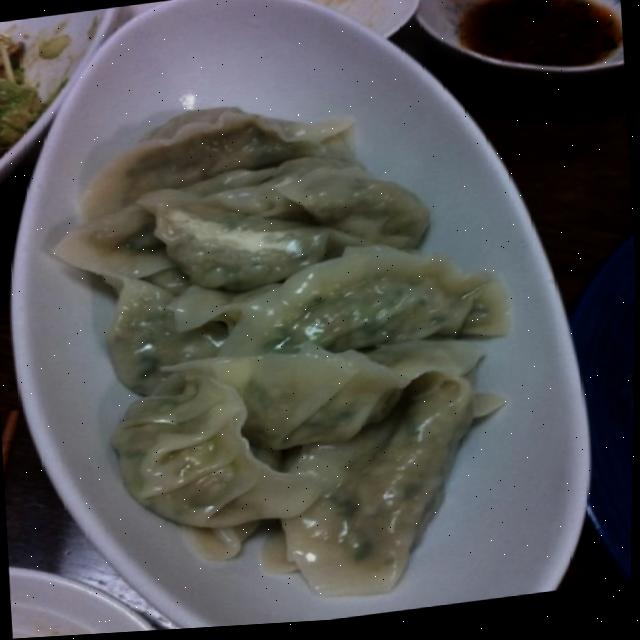带馅早点: (2, 0, 637, 640)
